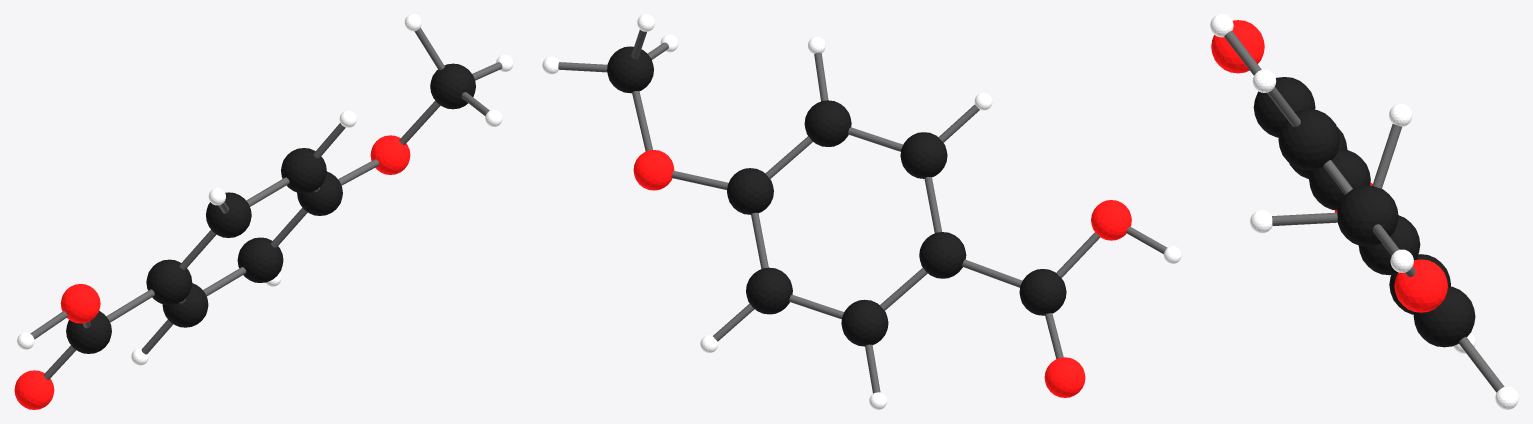
Rendered from molecule.glb.
The picture shows the model from 3 angles, left to right: view 1: azimuth 30°, elevation 25°; view 2: azimuth 150°, elevation 25°; view 3: azimuth 270°, elevation 25°; orthographic projection. The views are drawn at different scales.
Parts seen in each view (by area): view 1: geometry_3, geometry_5, geometry_9, geometry_8, geometry_4, geometry_1, geometry_2, geometry_0, geometry_10, geometry_6, geometry_7; view 2: geometry_3, geometry_1, geometry_4, geometry_5, geometry_6, geometry_10, geometry_9, geometry_8, geometry_0, geometry_7, geometry_2; view 3: geometry_5, geometry_8, geometry_9, geometry_7, geometry_3, geometry_4, geometry_2, geometry_6, geometry_33, geometry_34, geometry_36, geometry_31 (+10 smaller).
Boxes of the visible parts, x1,y1,x2,y2 form: geometry_3: (146,259,192,305); geometry_5: (281,148,326,193); geometry_9: (237,237,283,282); geometry_8: (430,63,475,109); geometry_4: (206,192,251,237); geometry_1: (66,311,111,353); geometry_2: (60,284,100,323); geometry_0: (14,370,54,409); geometry_10: (162,283,208,327); geometry_6: (297,171,342,215); geometry_7: (370,135,410,174); geometry_3: (919,232,966,278); geometry_1: (1019,269,1066,315); geometry_4: (900,132,947,178); geometry_5: (804,100,851,146); geometry_6: (727,168,773,214); geometry_10: (841,299,888,346); geometry_9: (746,267,792,314); geometry_8: (607,46,653,93); geometry_0: (1044,357,1085,397); geometry_7: (633,150,674,190); geometry_2: (1091,200,1131,240); geometry_5: (1278,109,1340,170); geometry_8: (1337,185,1398,246); geometry_9: (1413,286,1475,347); geometry_7: (1394,259,1447,312); geometry_3: (1309,149,1370,210); geometry_4: (1253,77,1315,137); geometry_2: (1211,20,1264,73); geometry_6: (1358,215,1420,275); geometry_33: (1372,124,1401,188); geometry_34: (1272,212,1337,225); geometry_36: (1458,336,1504,392); geometry_31: (1224,31,1261,75).
Size of the model in its own units: 0.257 by 0.1349 by 0.0916.
